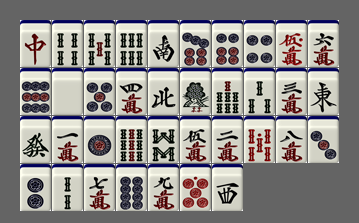0m: (276, 20, 307, 67)
0p: (180, 164, 211, 211)
0s: (244, 116, 275, 163)
1m: (52, 116, 83, 163)
1p: (84, 116, 115, 163)
1s: (180, 68, 211, 115)
1z: (308, 68, 339, 115)
2m: (212, 116, 243, 163)
2p: (20, 164, 51, 211)
2s: (52, 164, 83, 211)
2z: (148, 20, 179, 67)
3m: (276, 68, 307, 115)
3p: (308, 116, 339, 163)
3s: (244, 68, 275, 115)
3z: (212, 164, 243, 211)
4m: (116, 68, 147, 115)
4p: (244, 20, 275, 67)
4s: (52, 20, 83, 67)
4z: (148, 68, 179, 115)
5m: (180, 116, 211, 163)
5p: (84, 68, 115, 115)
5s: (84, 20, 115, 67)
5z: (52, 68, 83, 115)
6m: (308, 20, 339, 67)
6p: (212, 20, 243, 67)
6s: (116, 20, 147, 67)
6z: (20, 116, 51, 163)
7m: (84, 164, 115, 211)
7p: (180, 20, 211, 67)
7s: (212, 68, 243, 115)
7z: (20, 20, 51, 67)
8m: (276, 116, 307, 163)
8p: (116, 164, 147, 211)
8s: (148, 116, 179, 163)
9m: (148, 164, 179, 211)
9p: (20, 68, 51, 115)
9s: (116, 116, 147, 163)
